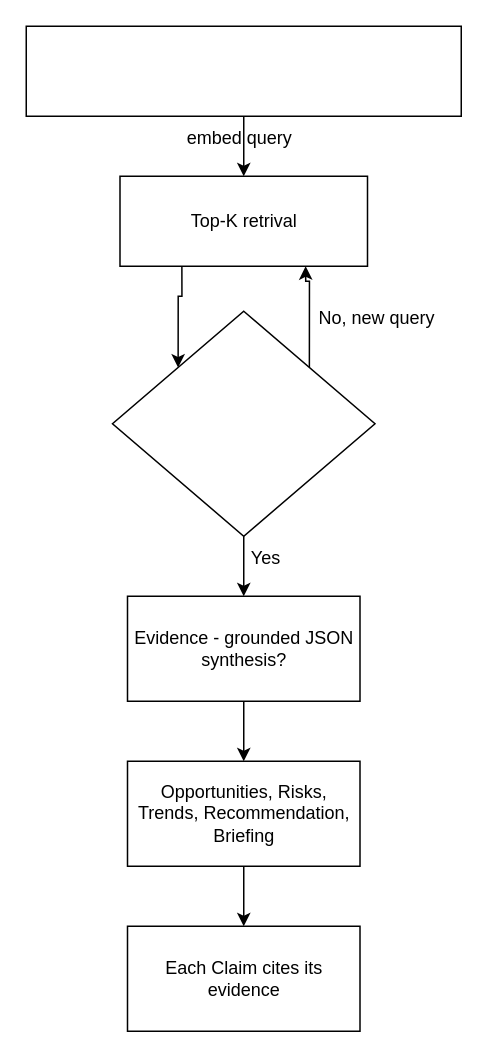
The diagram is 488 pixels wide and 1058 high, and some of its shapes have lost their labels. Each missing label, with the box of its shape:
Agentic Loop coverage complete?: (111, 310, 375, 536)
Documents in ChromaDB: (25, 25, 461, 116)
